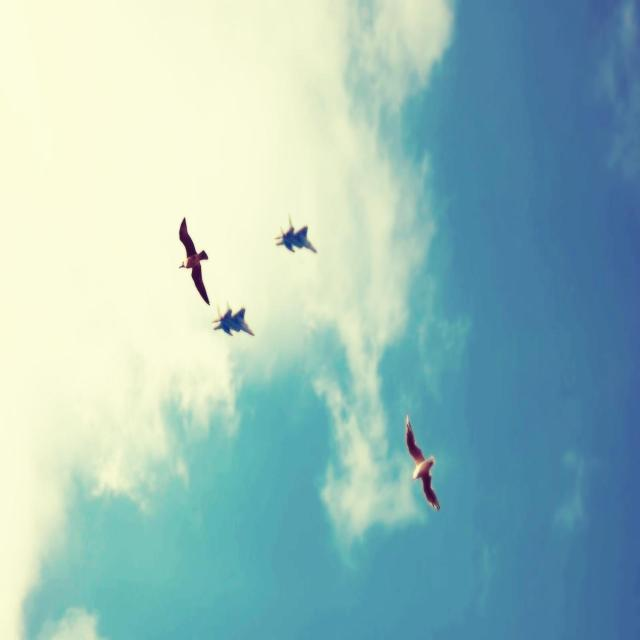airplane: (274, 213, 317, 254), (212, 301, 254, 337)
